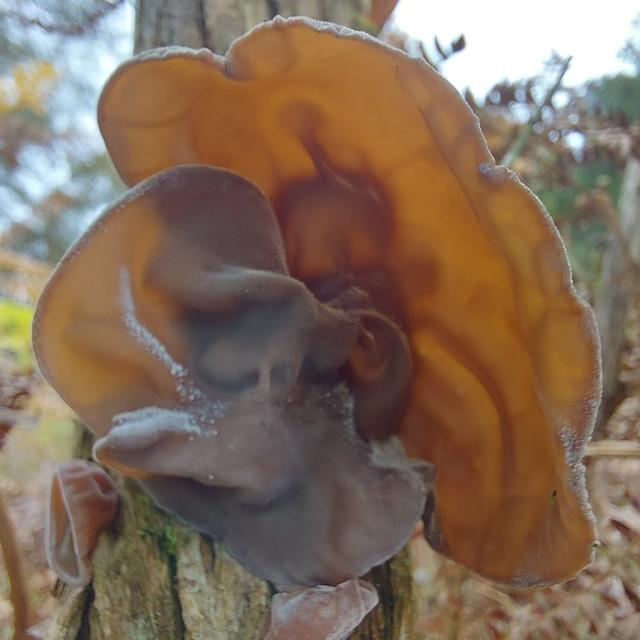Matang: (85, 7, 607, 586), (30, 161, 449, 591), (26, 458, 124, 589), (262, 580, 389, 640)
